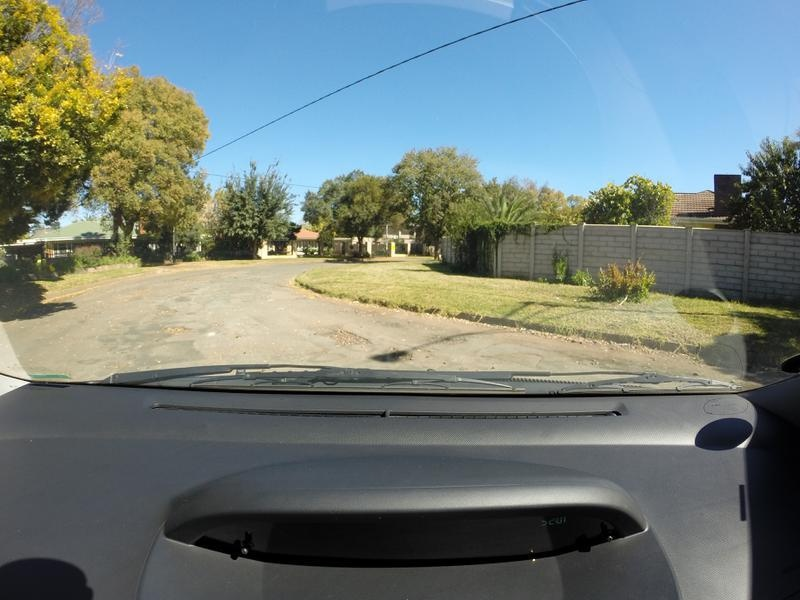pothole: (322, 315, 378, 353), (411, 330, 466, 349), (152, 321, 193, 341)
